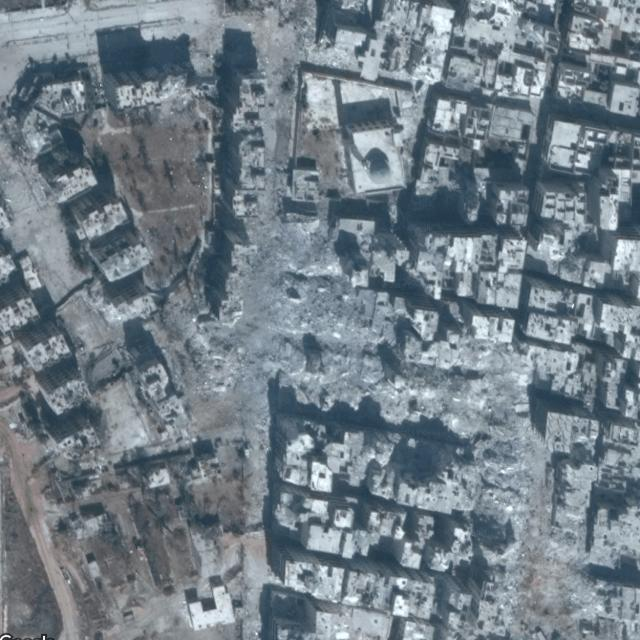damaged_building: (158, 159, 612, 637), (274, 3, 419, 67), (152, 64, 222, 108)
